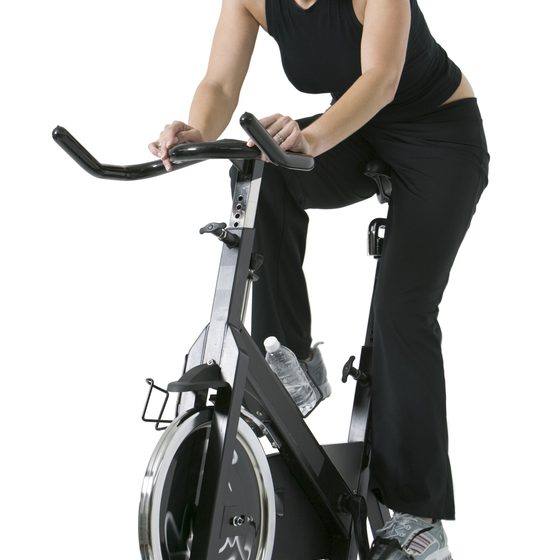gym_bike: (42, 119, 402, 560)
